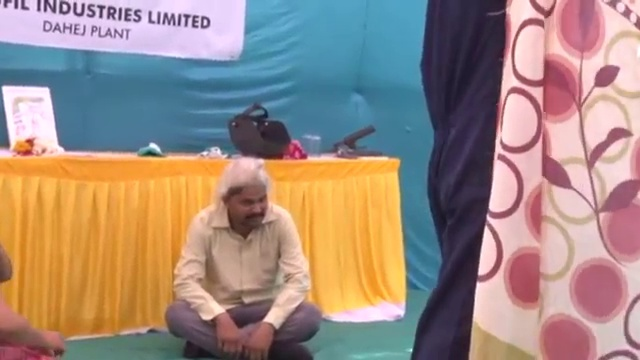helmet_off: (219, 160, 269, 230)
person: (410, 1, 505, 358), (161, 157, 321, 360)
